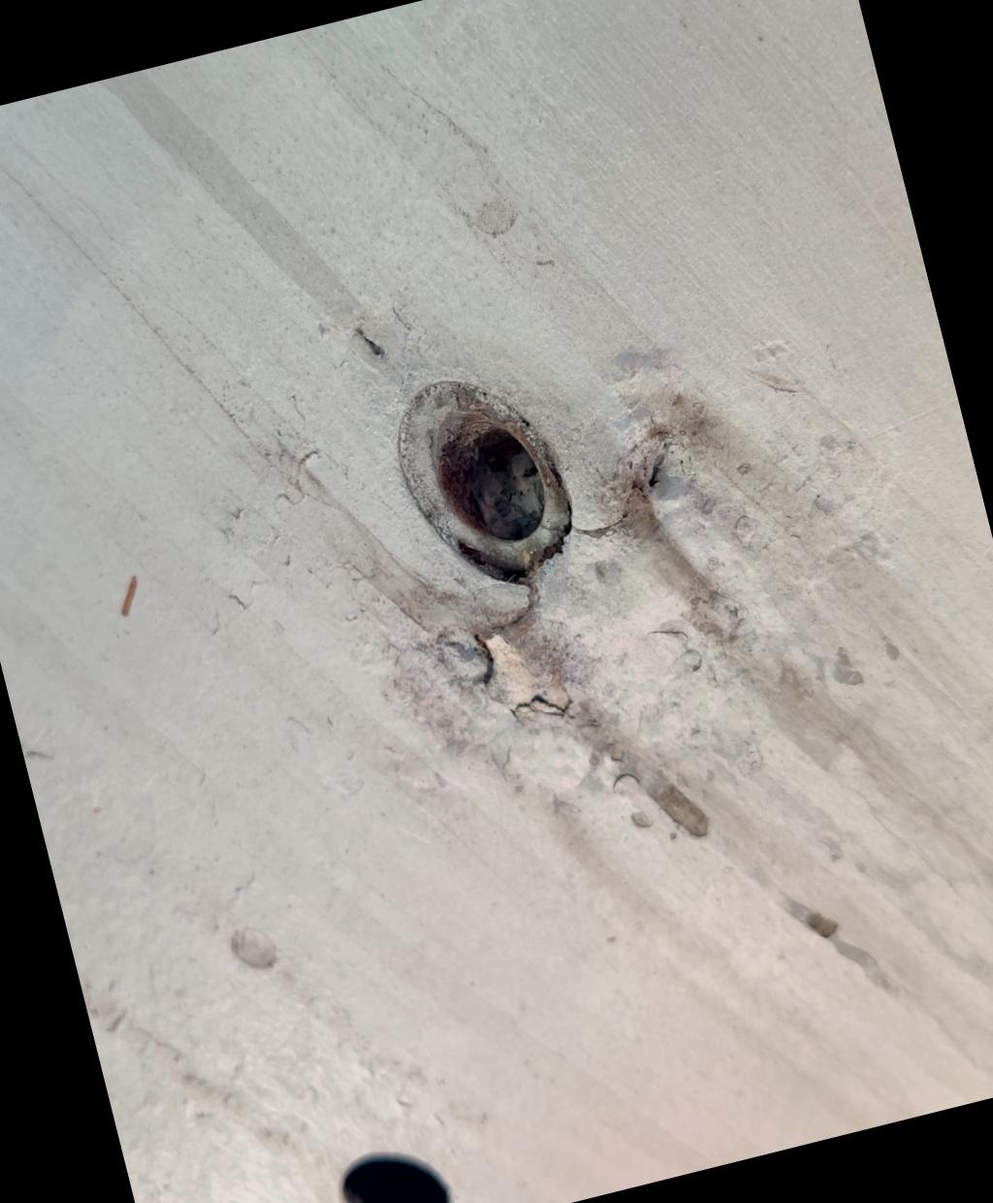crack: (410, 558, 601, 757)
